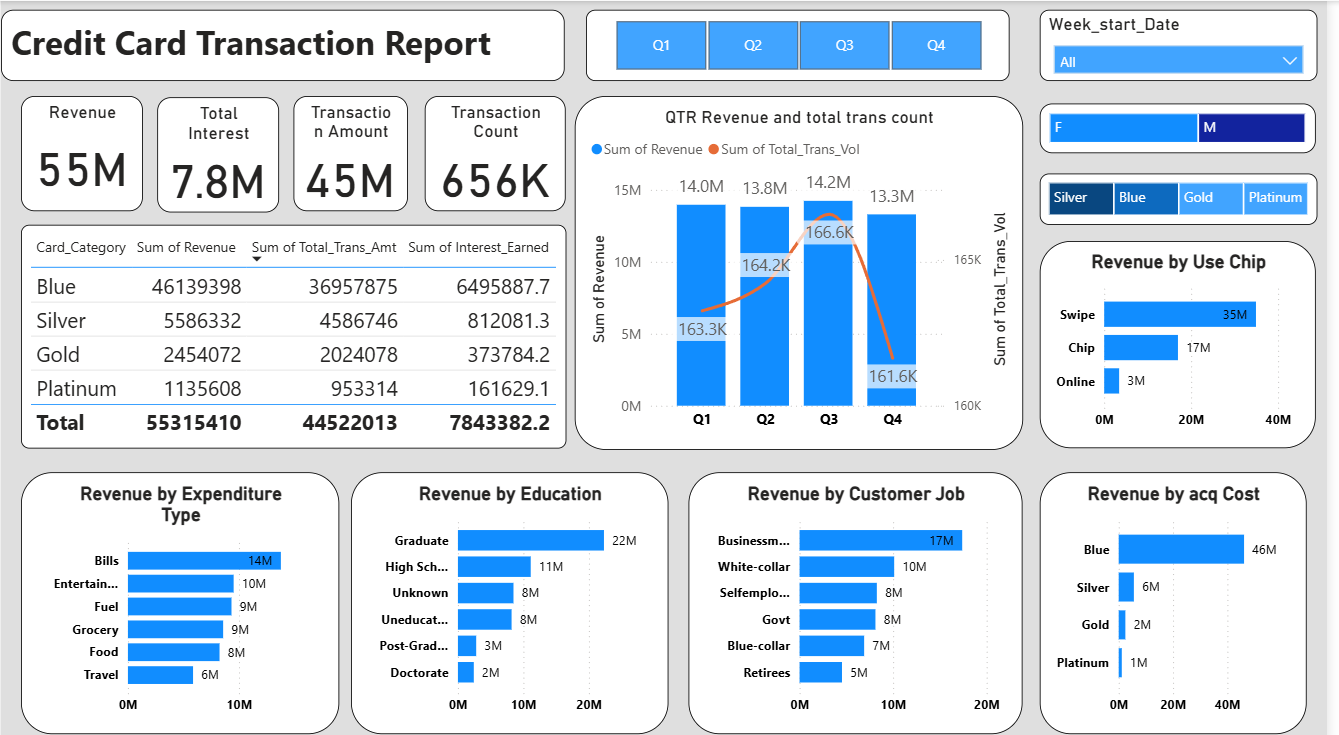

The dashboard page shown, as its layout file describes it:
{"tool":"powerbi","page":{"name":"Page 2","canvas":[1280,720],"ordinal":1},"visuals":[{"type":"textbox","box":[0,8.8,543.8,68.8],"z":0},{"type":"lineStackedColumnComboChart","title":"QTR Revenue and total trans count","fields":{"Category":["credit_card.Qtr"],"Y":["Sum(credit_card.Revenue)"],"Y2":["Sum(credit_card.Total_Trans_Vol)"]},"box":[553.8,91.2,432.5,341.2],"z":1000},{"type":"barChart","title":"Revenue by Expenditure Type","fields":{"Y":["Sum(credit_card.Revenue)"],"Category":["credit_card.Exp Type"]},"box":[18.8,455,307.5,252.5],"z":2000},{"type":"barChart","title":"Revenue by Education","fields":{"Y":["Sum(credit_card.Revenue)"],"Category":["customer.Education_Level"]},"box":[337.5,455,306.2,252.5],"z":3000},{"type":"barChart","title":"Revenue by Customer Job","fields":{"Y":["Sum(credit_card.Revenue)"],"Category":["customer.Customer_Job"]},"box":[663.8,455,322.5,252.5],"z":4000},{"type":"barChart","title":"Revenue by acq Cost","fields":{"Y":["Sum(credit_card.Revenue)"],"Category":["credit_card.Card_Category"]},"box":[1002.5,455,257.5,252.5],"z":5000},{"type":"barChart","title":"Revenue by Use Chip","fields":{"Y":["Sum(credit_card.Revenue)"],"Category":["credit_card.Use Chip"]},"box":[1002.6,231.6,266.6,200.3],"z":6000},{"type":"tableEx","fields":{"Values":["credit_card.Card_Category","Sum(credit_card.Revenue)","Sum(credit_card.Total_Trans_Amt)","Sum(credit_card.Interest_Earned)"]},"box":[18.8,216.2,526.2,216.2],"z":7000},{"type":"card","title":"Revenue","fields":{"Values":["Sum(credit_card.Revenue)"]},"box":[18.8,91.2,117.5,111.2],"z":8000},{"type":"card","title":"Total Interest","fields":{"Values":["Sum(credit_card.Interest_Earned)"]},"box":[151.2,92.5,117.5,111.2],"z":9000},{"type":"card","title":"Transaction Count","fields":{"Values":["Sum(credit_card.Total_Trans_Vol)"]},"box":[408.8,91.2,136.2,111.2],"z":10000},{"type":"card","title":"Transaction Amount","fields":{"Values":["Sum(credit_card.Total_Trans_Amt)"]},"box":[282.5,91.2,110,111.2],"z":11000},{"type":"slicer","fields":{"Values":["credit_card.Qtr"]},"box":[564.6,8.4,409,68.8],"z":12000},{"type":"treemap","fields":{"Group":["credit_card.Card_Category"],"Values":["Avg(credit_card.Client_Num)"]},"box":[1002.6,166.5,267.8,49.5],"z":13000},{"type":"slicer","title":"Week_start_Date","fields":{"Values":["credit_card.Week_Start_Date"]},"box":[1002.6,8.4,267.8,68.8],"z":14000},{"type":"treemap","fields":{"Group":["customer.Gender"],"Values":["CountNonNull(credit_card.Client_Num)"]},"box":[1002.6,98.9,266.6,48.3],"z":15000}]}

Visuals, with their boxes in screenshot pixels (x1, y1, x2, y2), scaled from the page's 1280x720 canvas onto the 1339x735 screenshot:
textbox: region(0, 9, 569, 79)
"QTR Revenue and total trans count" lineStackedColumnComboChart: region(579, 93, 1032, 441)
"Revenue by Expenditure Type" barChart: region(20, 464, 341, 722)
"Revenue by Education" barChart: region(353, 464, 673, 722)
"Revenue by Customer Job" barChart: region(694, 464, 1032, 722)
"Revenue by acq Cost" barChart: region(1049, 464, 1318, 722)
"Revenue by Use Chip" barChart: region(1049, 236, 1328, 441)
tableEx - credit_card.Card_Category x Sum(credit_card.Revenue): region(20, 221, 570, 441)
"Revenue" card: region(20, 93, 143, 207)
"Total Interest" card: region(158, 94, 281, 208)
"Transaction Count" card: region(428, 93, 570, 207)
"Transaction Amount" card: region(296, 93, 411, 207)
slicer - credit_card.Qtr: region(591, 9, 1018, 79)
treemap - credit_card.Card_Category x Avg(credit_card.Client_Num): region(1049, 170, 1329, 220)
"Week_start_Date" slicer: region(1049, 9, 1329, 79)
treemap - customer.Gender x CountNonNull(credit_card.Client_Num): region(1049, 101, 1328, 150)
